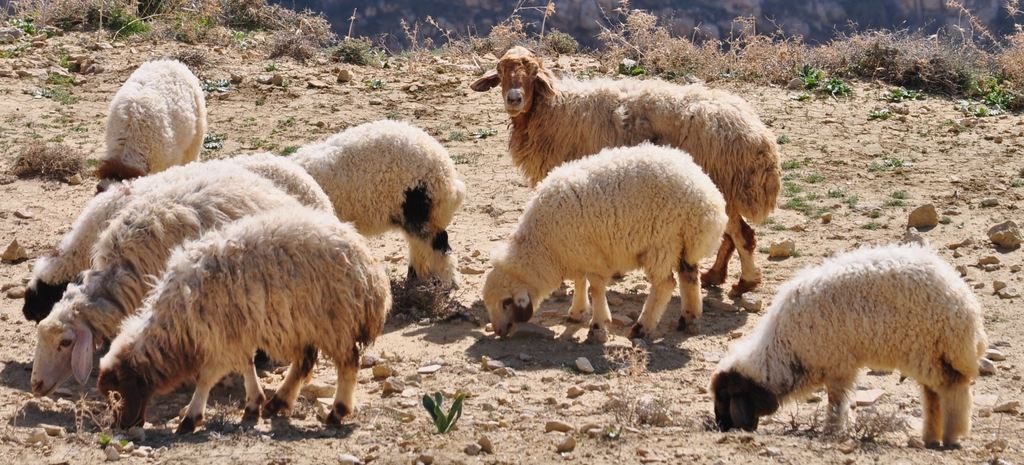sheep: (48, 149, 382, 437)
